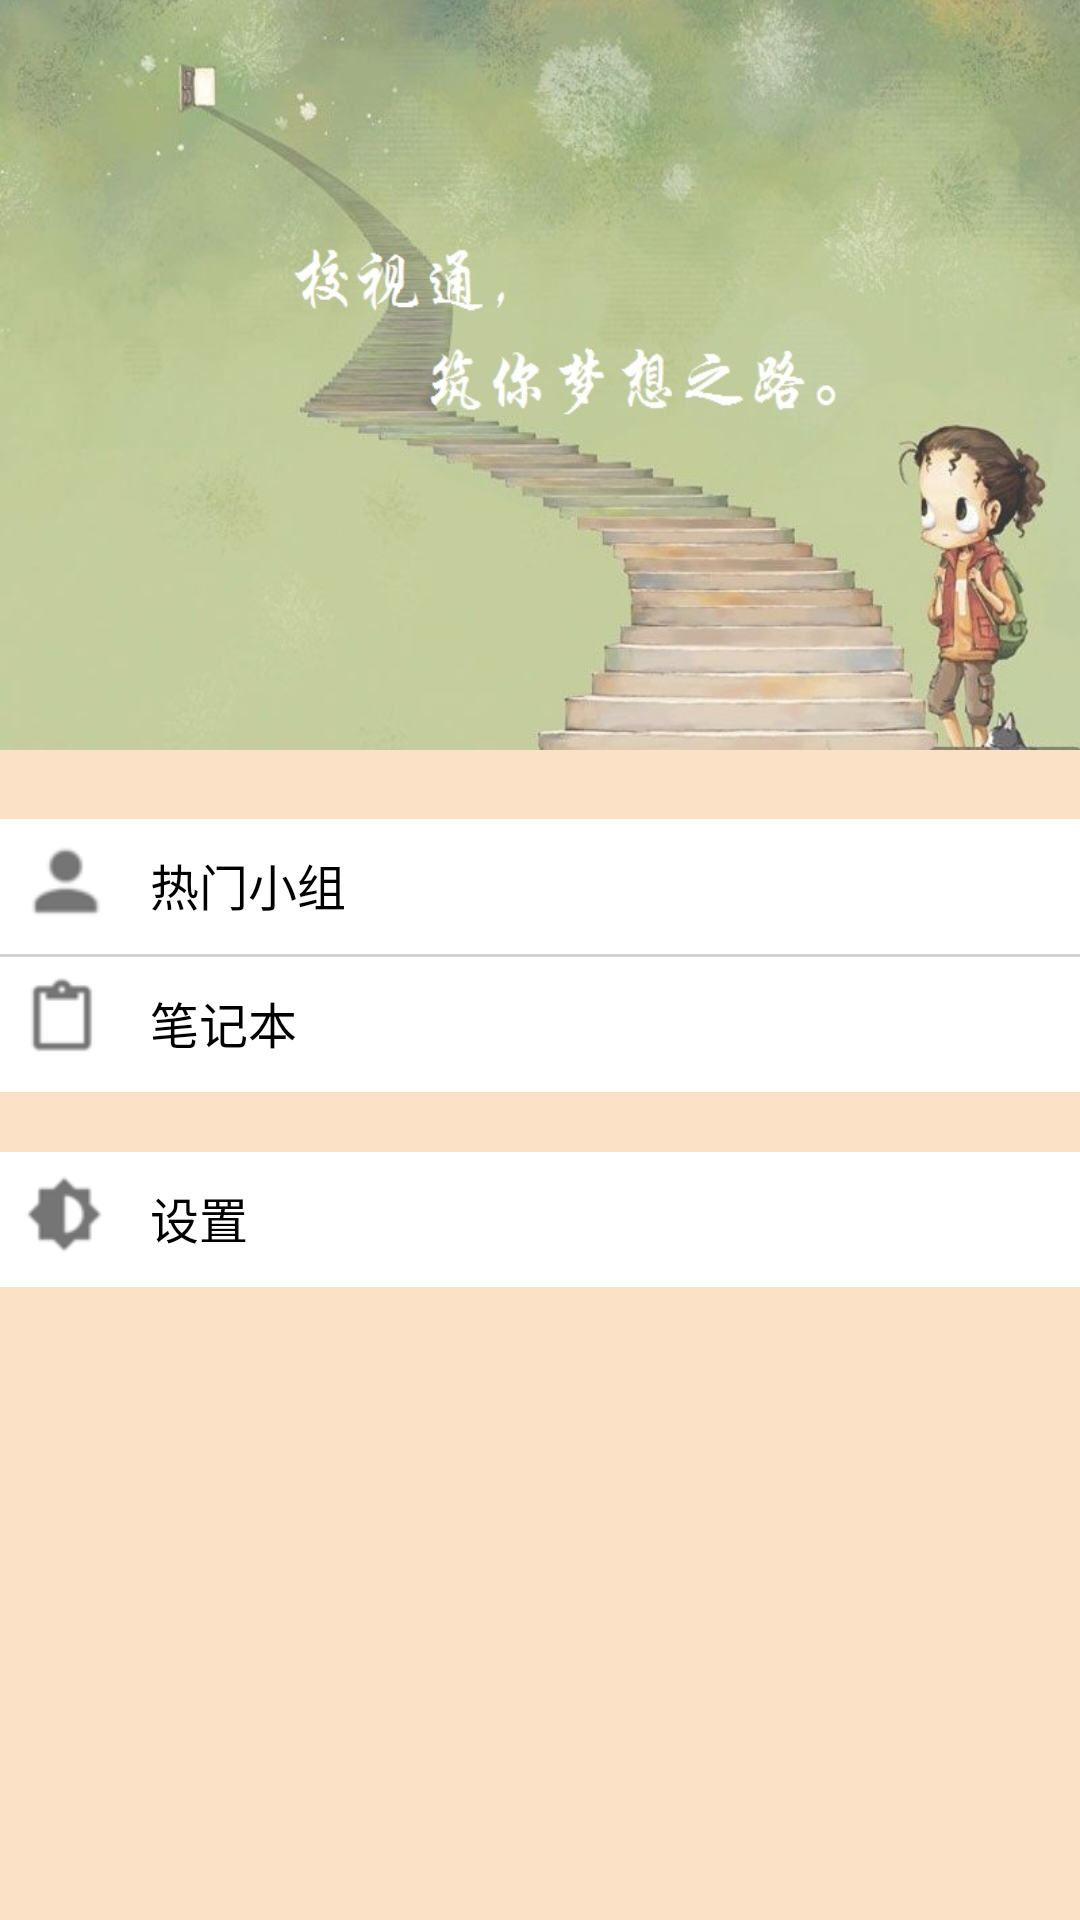

Named icons in this screenshot (1080 × 1920) and their centers, point (x, y):
lesson: point (62, 1014)
setting: point (64, 1214)
